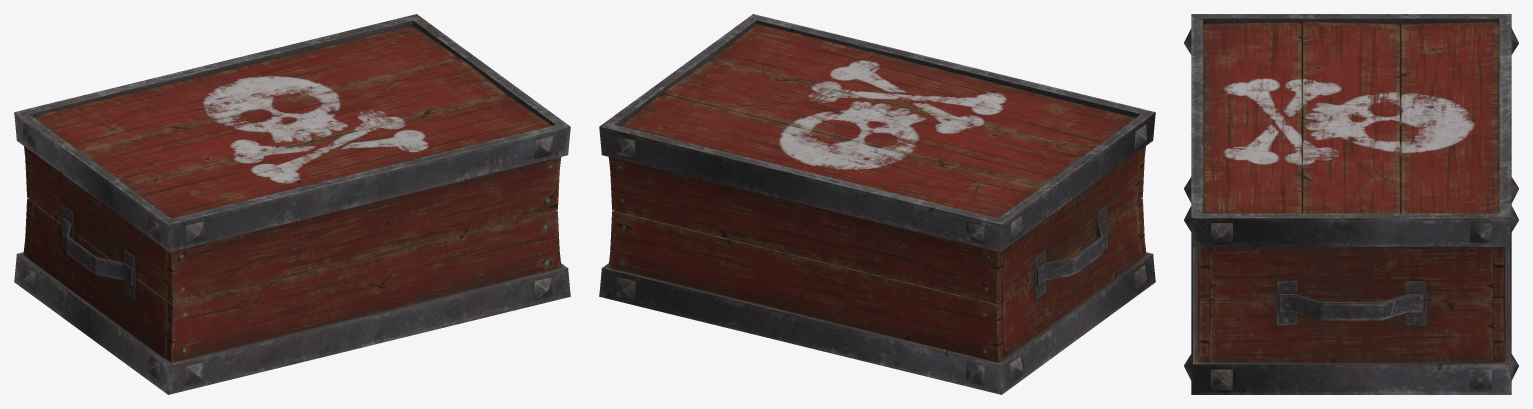
Rendered from Gunpowder Box_2.fbx.
3 renders of one model, left to right at view 1: azimuth 30°, elevation 25°; view 2: azimuth 150°, elevation 25°; view 3: azimuth 270°, elevation 25°, orthographic. The views are drawn at different scales.
Visible parts, largest first — view 1: Gunpowder Box_2; view 2: Gunpowder Box_2; view 3: Gunpowder Box_2.
Part boxes in pixels (x1=…): Gunpowder Box_2: x1=14, y1=14, x2=570, y2=394; Gunpowder Box_2: x1=599, y1=14, x2=1155, y2=394; Gunpowder Box_2: x1=1184, y1=14, x2=1518, y2=394.
Size of the model in its own units: 143 by 54.89 by 94.23.
